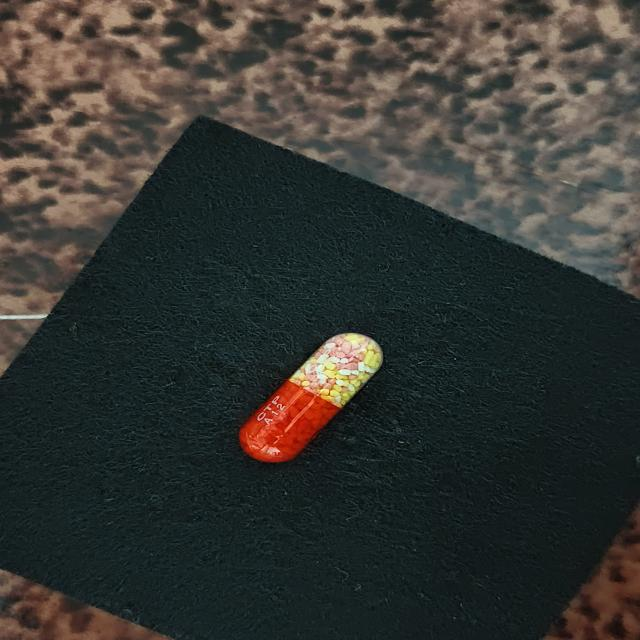Intact Capsule: (239, 333, 383, 463)
